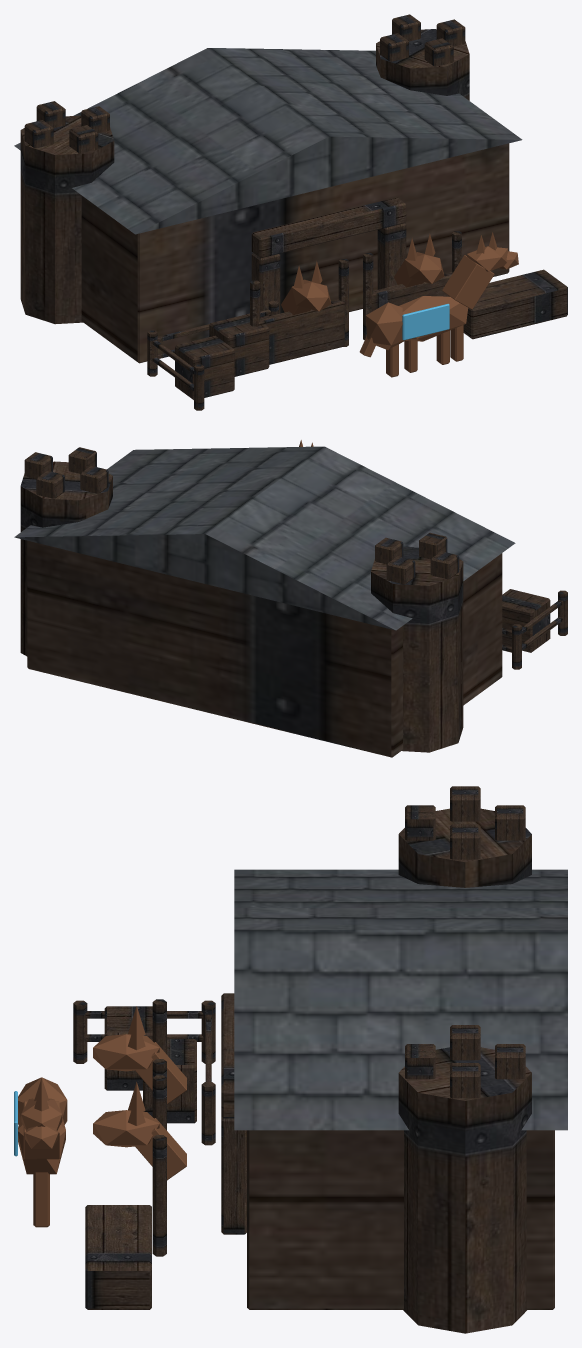
Rendered from edificio-b_017-e2-lod0-C-U3ggJN.glb.
3 renders of one model, top to bottom at view 1: azimuth 30°, elevation 25°; view 2: azimuth 150°, elevation 25°; view 3: azimuth 270°, elevation 25°, orthographic. The views are drawn at different scales.
Visible parts, largest first — view 1: envolvente_establo, caballos_establo, team_color; view 2: envolvente_establo; view 3: envolvente_establo, caballos_establo.
Boxes of the visible parts, x1,y1,x2,y2 form: envolvente_establo: [14, 14, 567, 410]; caballos_establo: [281, 232, 518, 377]; team_color: [402, 303, 449, 340]; envolvente_establo: [14, 446, 567, 757]; envolvente_establo: [73, 786, 567, 1333]; caballos_establo: [18, 1006, 186, 1227].
Size of the model in its own units: 54.4 by 22 by 43.16.
3 materials, 1 textured.
